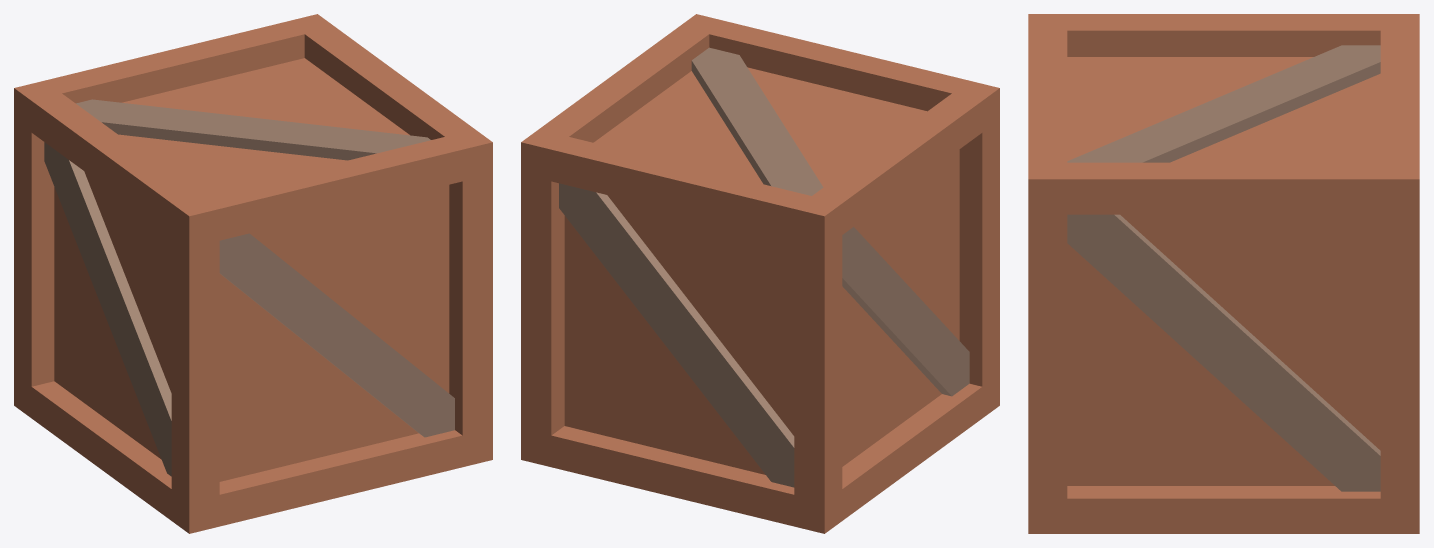
The model's file is Crate.FBX.
3 renders of one model, left to right at view 1: azimuth 30°, elevation 25°; view 2: azimuth 150°, elevation 25°; view 3: azimuth 270°, elevation 25°, orthographic. The views are drawn at different scales.
Visible parts, largest first — view 1: Crate; view 2: Crate; view 3: Crate.
Part boxes in pixels (x1=…): Crate: x1=14, y1=14, x2=492, y2=533; Crate: x1=521, y1=14, x2=999, y2=533; Crate: x1=1028, y1=14, x2=1419, y2=533.
Size of the model in its own units: 39.37 by 39.37 by 39.37.
